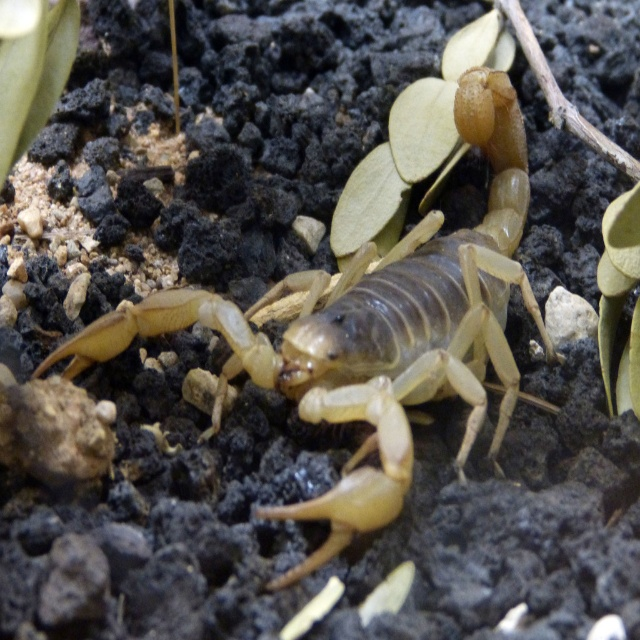Scorpion: (30, 59, 565, 593)
